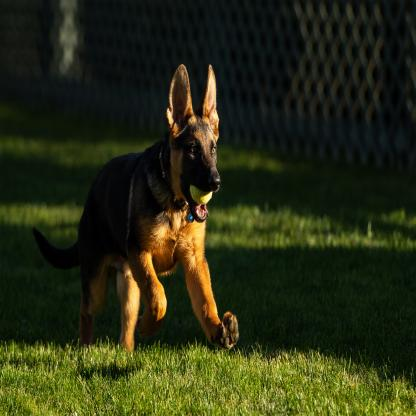dog: (76, 65, 239, 359)
